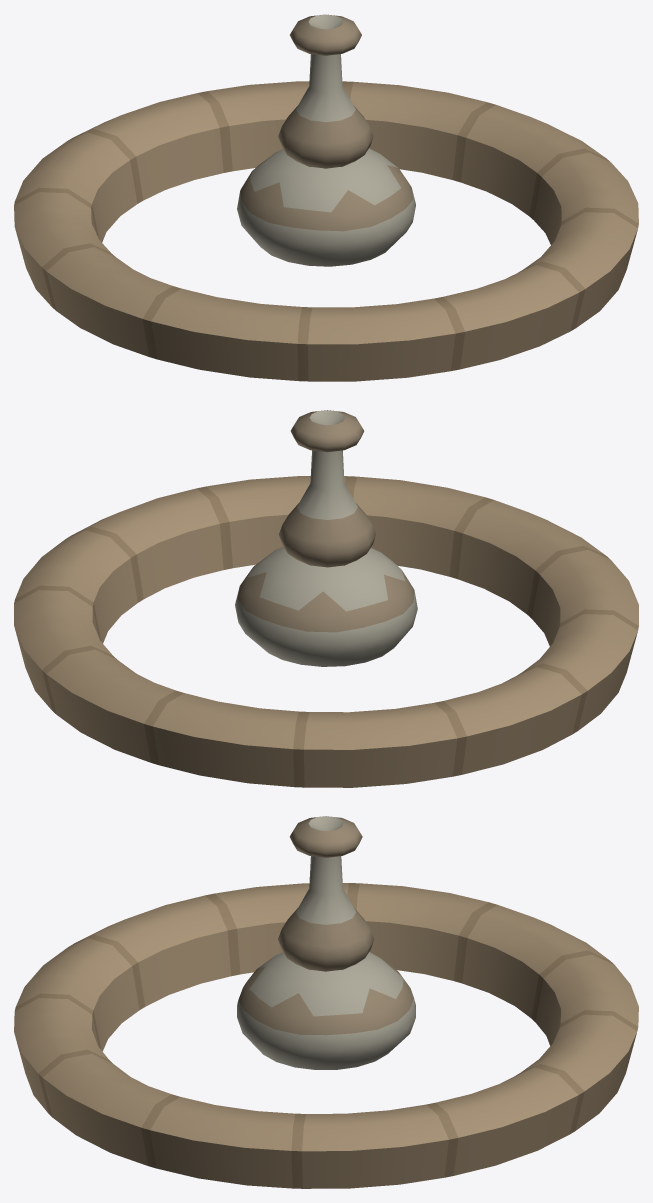
File: fountain_01.fbx
3 renders of one model, top to bottom at view 1: azimuth 30°, elevation 25°; view 2: azimuth 150°, elevation 25°; view 3: azimuth 270°, elevation 25°, orthographic. The views are drawn at different scales.
Visible parts, largest first — view 1: fountain_01; view 2: fountain_01; view 3: fountain_01.
Boxes of the visible parts, x1=… form: fountain_01: x1=14, y1=14, x2=638, y2=381; fountain_01: x1=14, y1=410, x2=638, y2=787; fountain_01: x1=14, y1=816, x2=638, y2=1188.
Bounding box in the file's own units: 549 × 230 × 549.
